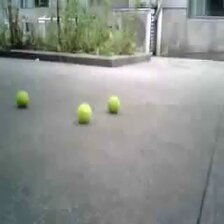tennis: (76, 103, 92, 122), (106, 95, 121, 112), (14, 90, 27, 106)
